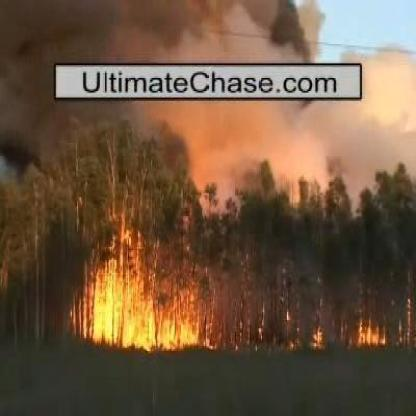-: (71, 3, 320, 58), (187, 108, 410, 155)
foggia-v2-map80-epoch100 - v1 4323: (91, 276, 188, 344)
